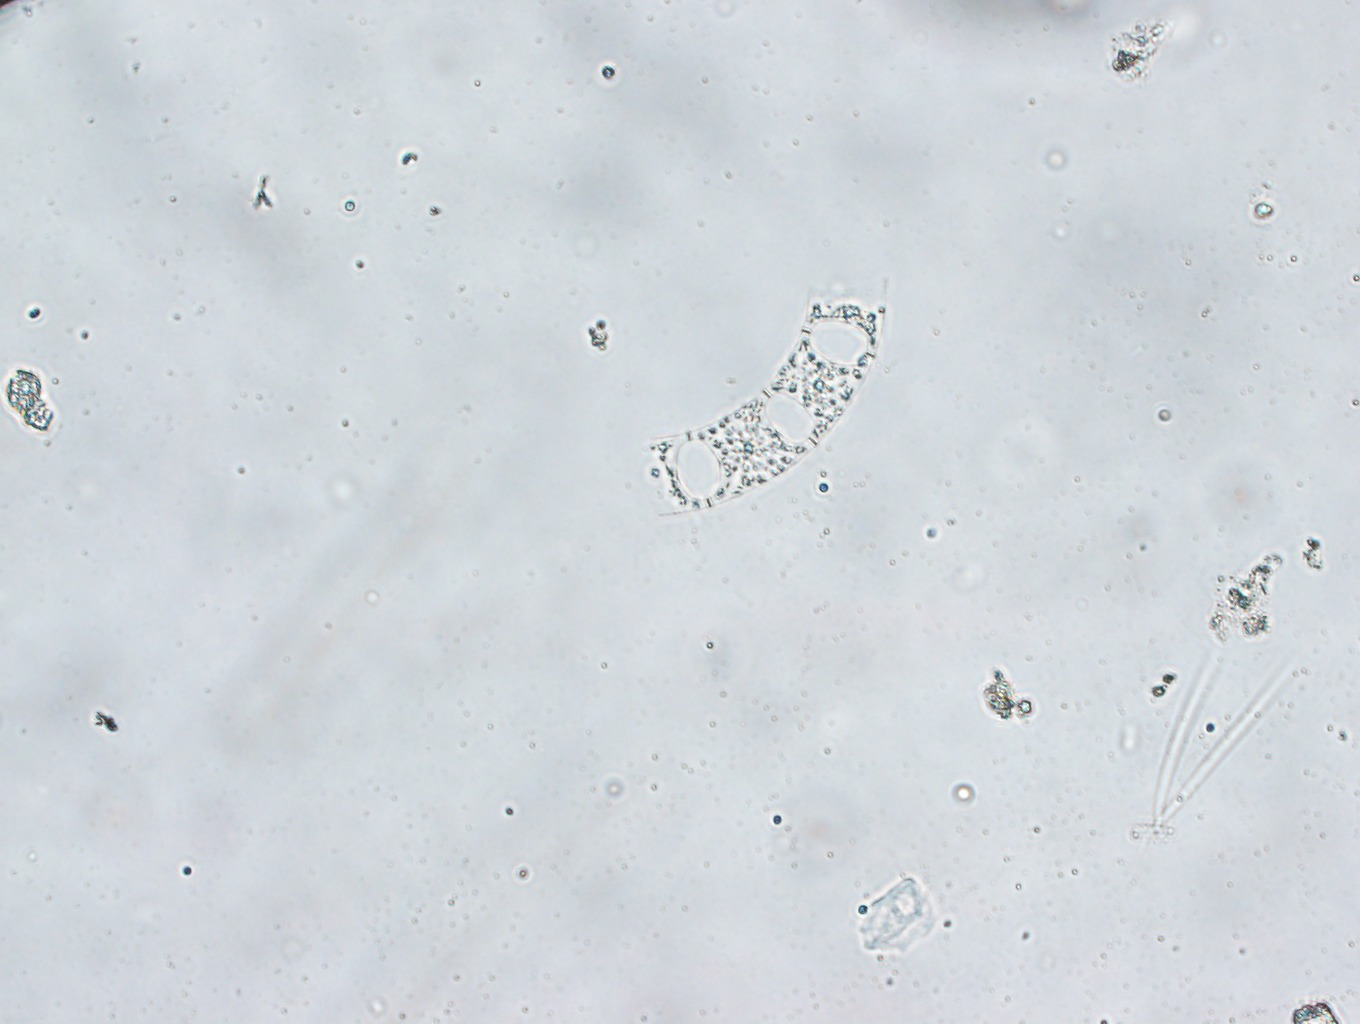eucampia: (638, 278, 889, 517)
